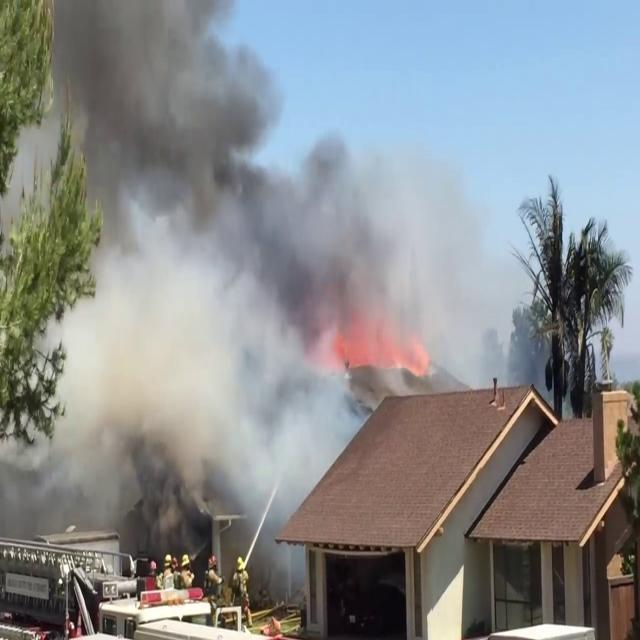Smoke: (28, 1, 421, 547)
